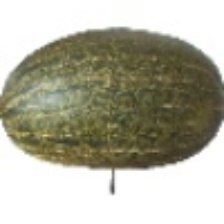honeydew: (61, 35, 201, 208)
